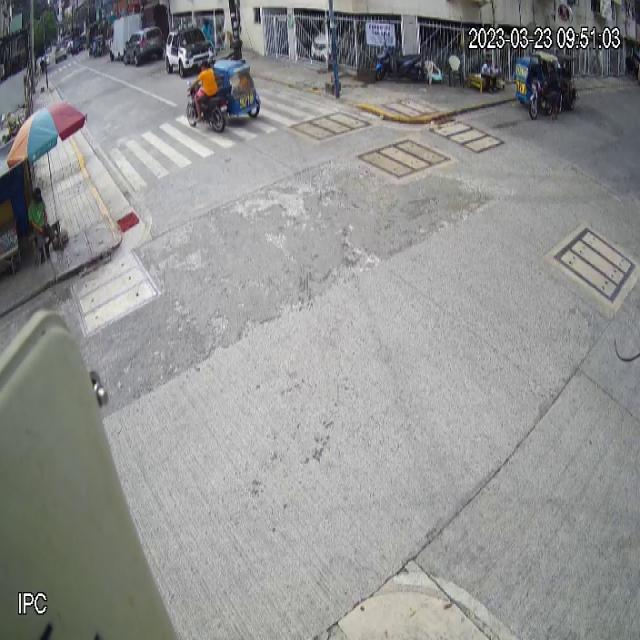Tricycle: (186, 60, 262, 134), (515, 50, 563, 120)
